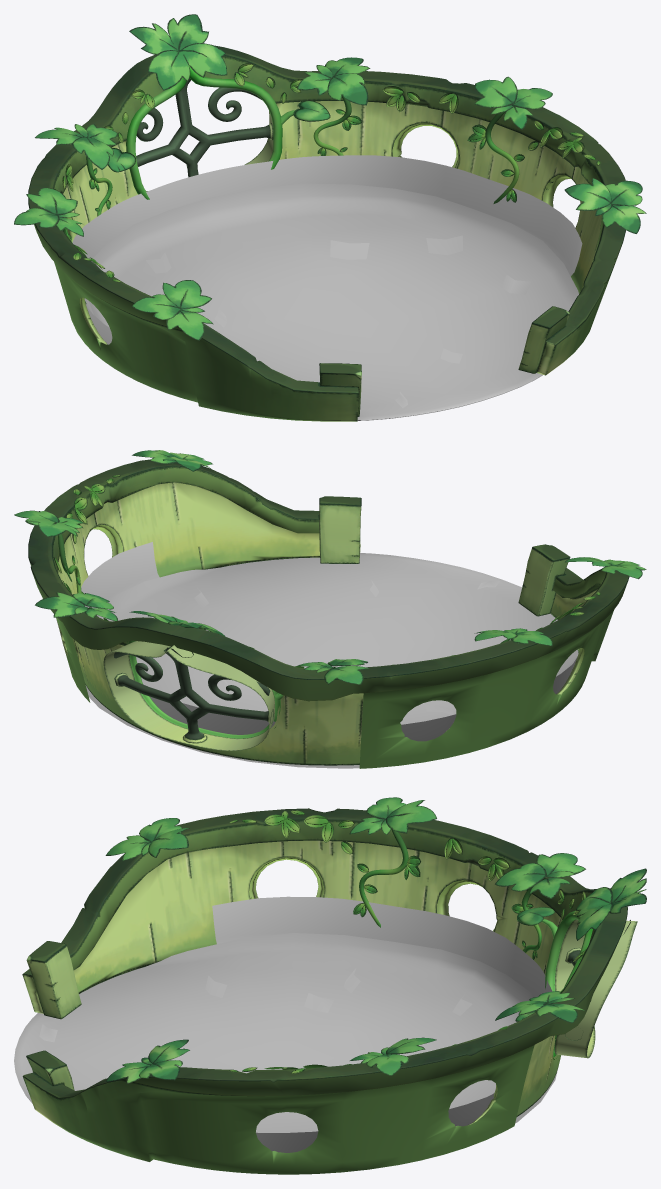
Rendered from Grass Hut Inside.dae.
3 renders of one model, top to bottom at view 1: azimuth 30°, elevation 25°; view 2: azimuth 150°, elevation 25°; view 3: azimuth 270°, elevation 25°, orthographic. The views are drawn at different scales.
Parts seen in each view (by area): view 1: ground_mdl, wall_mdl, wall_grass_mdl, ground_grass_edge_mdl, window_mdl, wall_pillar_mdl, ground_grass1_mdl; view 2: wall_mdl, ground_mdl, window_mdl, wall_grass_mdl, ground_grass_edge_mdl, wall_pillar_mdl, ground_edge_mdl; view 3: wall_mdl, ground_mdl, wall_grass_mdl, ground_grass_edge_mdl, window_mdl, wall_pillar_mdl, ground_grass1_mdl.
Part boxes in pixels (<box>): ground_mdl: <box>88,183,578,420</box>; wall_mdl: <box>28,45,625,421</box>; wall_grass_mdl: <box>14,14,646,340</box>; ground_grass_edge_mdl: <box>72,155,582,344</box>; window_mdl: <box>126,65,282,199</box>; wall_pillar_mdl: <box>319,306,569,416</box>; ground_grass1_mdl: <box>146,235,530,407</box>; wall_mdl: <box>28,459,629,768</box>; ground_mdl: <box>88,553,578,768</box>; window_mdl: <box>103,640,280,750</box>; wall_grass_mdl: <box>14,450,646,699</box>; ground_grass_edge_mdl: <box>81,542,577,741</box>; wall_pillar_mdl: <box>319,496,570,616</box>; ground_edge_mdl: <box>85,685,359,767</box>; wall_mdl: <box>22,808,627,1174</box>; ground_mdl: <box>14,933,555,1132</box>; wall_grass_mdl: <box>105,797,646,1083</box>; ground_grass_edge_mdl: <box>212,896,552,1152</box>; window_mdl: <box>545,910,637,1059</box>; wall_pillar_mdl: <box>26,941,81,1090</box>; ground_grass1_mdl: <box>39,968,471,1078</box>.
Size of the model in its own units: 7.82 by 7.51 by 2.35.
